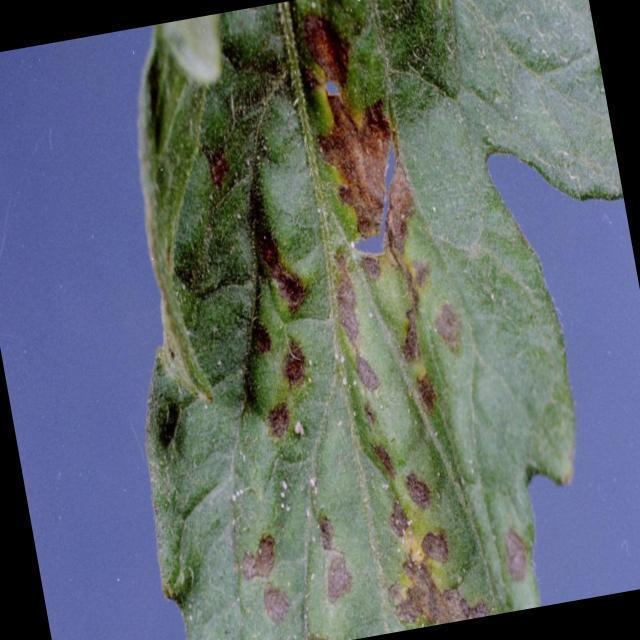Bacterial Spot: (156, 0, 540, 640)
